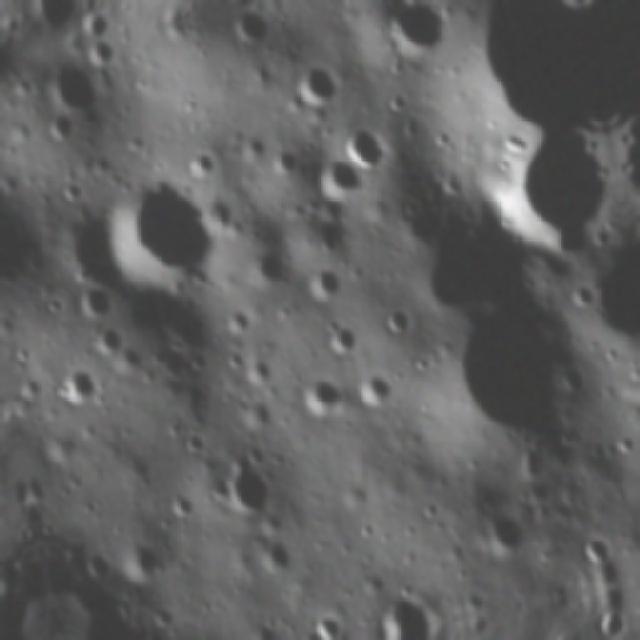crater: (434, 288, 592, 463), (483, 115, 623, 256), (454, 0, 600, 134), (101, 175, 225, 302), (46, 198, 132, 293), (382, 0, 452, 63), (216, 455, 278, 522), (45, 52, 103, 117), (337, 118, 391, 179), (310, 148, 368, 203), (295, 370, 354, 422), (50, 360, 105, 412), (290, 57, 342, 111), (479, 504, 530, 558), (317, 313, 365, 367), (244, 238, 291, 290), (198, 191, 244, 243), (72, 281, 121, 324), (119, 538, 167, 580), (229, 5, 273, 49), (257, 532, 301, 576), (44, 102, 82, 146), (357, 368, 397, 408), (164, 484, 202, 524), (307, 264, 344, 305), (578, 529, 616, 568), (185, 142, 220, 184), (92, 320, 130, 358), (310, 607, 352, 640), (85, 38, 122, 73), (240, 355, 275, 390), (217, 303, 252, 337), (238, 397, 272, 431), (566, 277, 599, 311), (611, 427, 640, 461), (383, 304, 415, 333), (182, 426, 208, 456)
